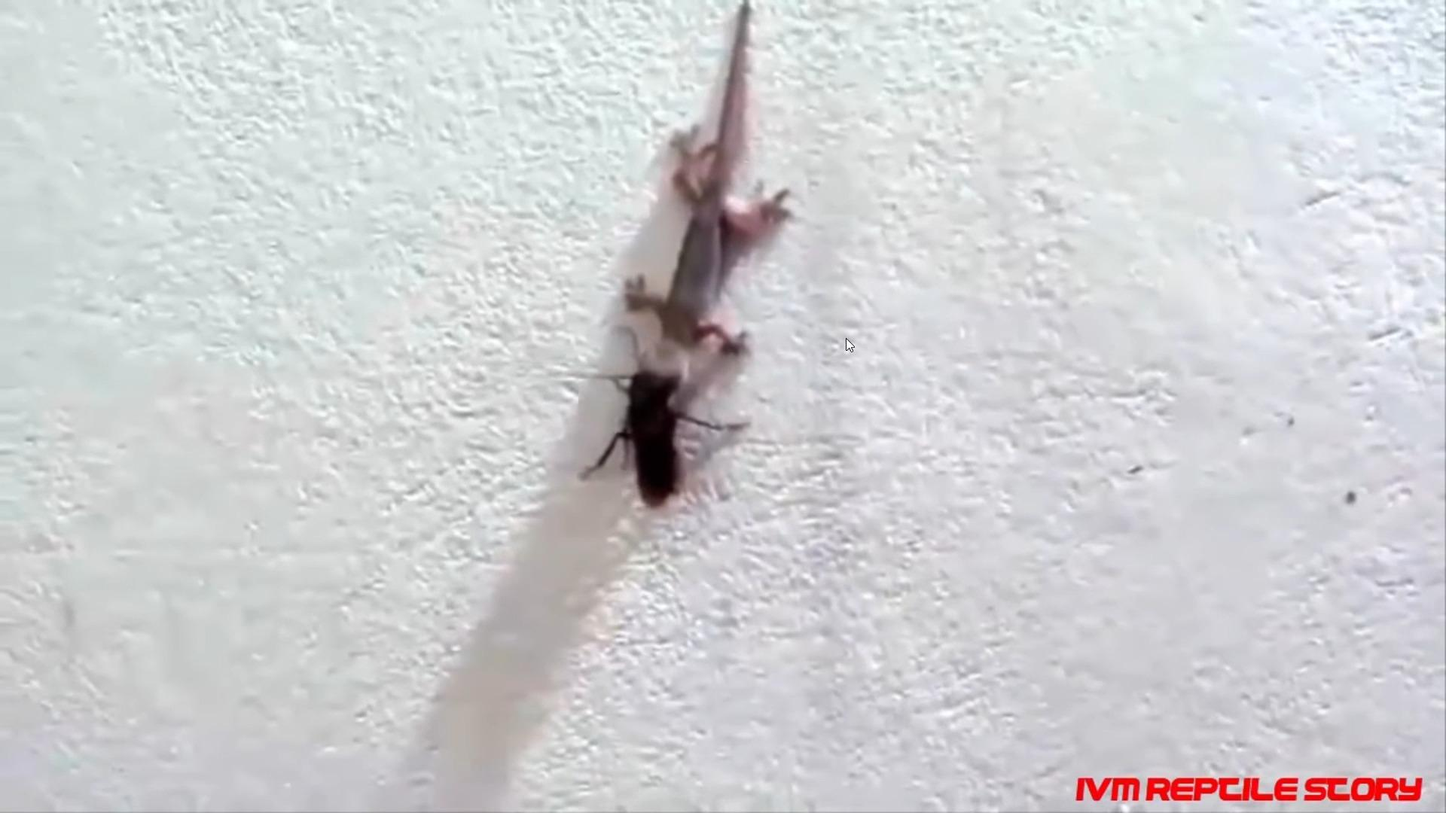cockroach: (606, 372, 697, 514)
lizard: (626, 54, 784, 400)
